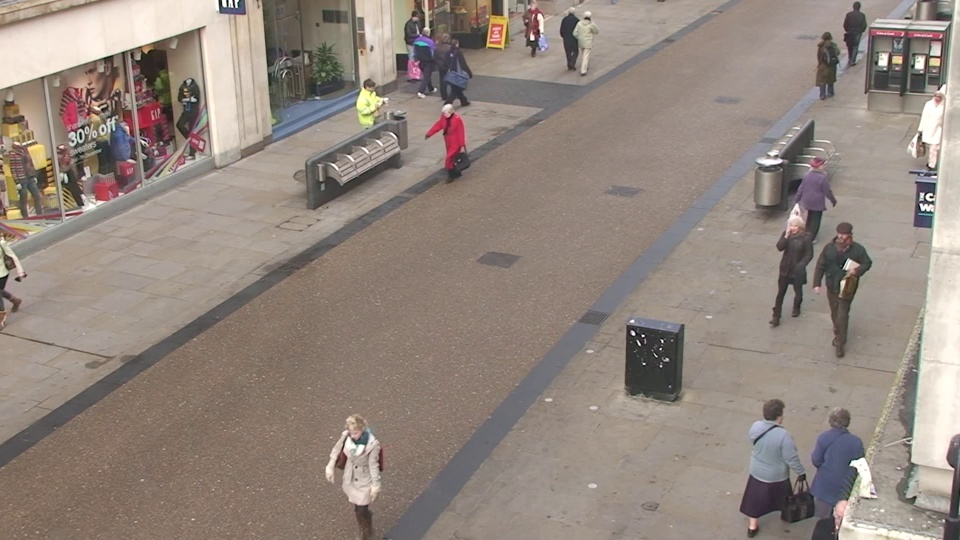pedestrian: (804, 395, 867, 540), (738, 388, 798, 540), (331, 405, 392, 540), (816, 218, 864, 342), (770, 210, 814, 332), (794, 150, 834, 256), (911, 86, 956, 179), (433, 101, 465, 193), (355, 74, 386, 158), (808, 29, 839, 104), (442, 34, 468, 107), (433, 31, 458, 103), (415, 23, 440, 93), (404, 8, 428, 73), (577, 8, 599, 74), (561, 2, 583, 67)
